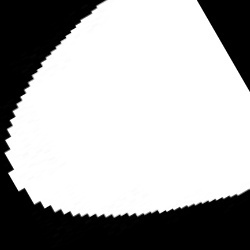spot: (5, 4, 247, 218)
